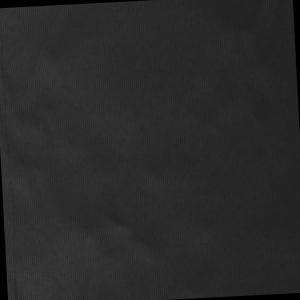Wrinkle: (1, 42, 200, 300)
